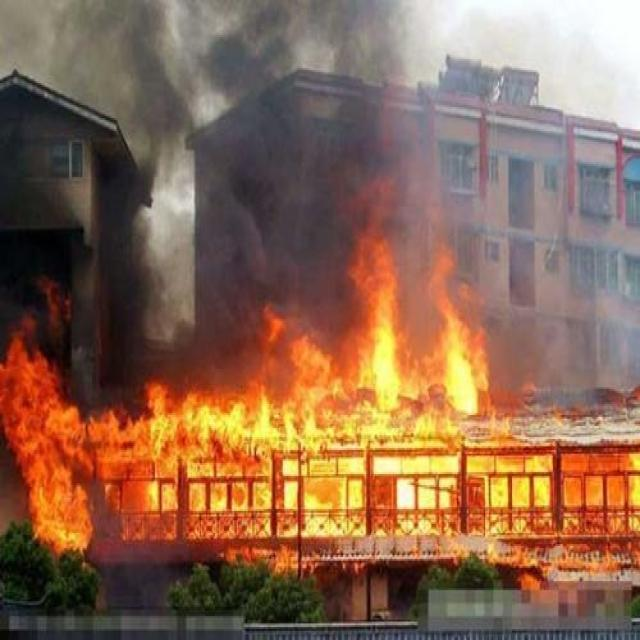Fire: (0, 233, 640, 557)
Smoke: (0, 0, 358, 339)
